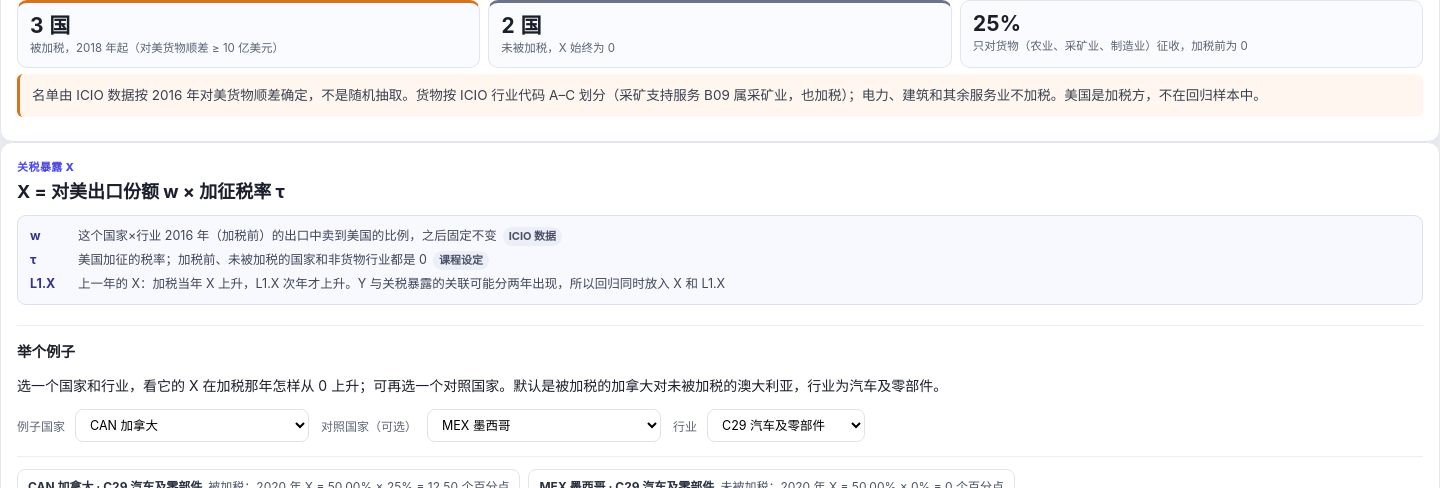
after submission, switching the example asks first, then confirms and keeps focus
Select "C26 计算机电子光学" in the dropdown labelled "行业" at point(786, 426), box left=707, top=409, right=865, bottom=442
(page scrolled)
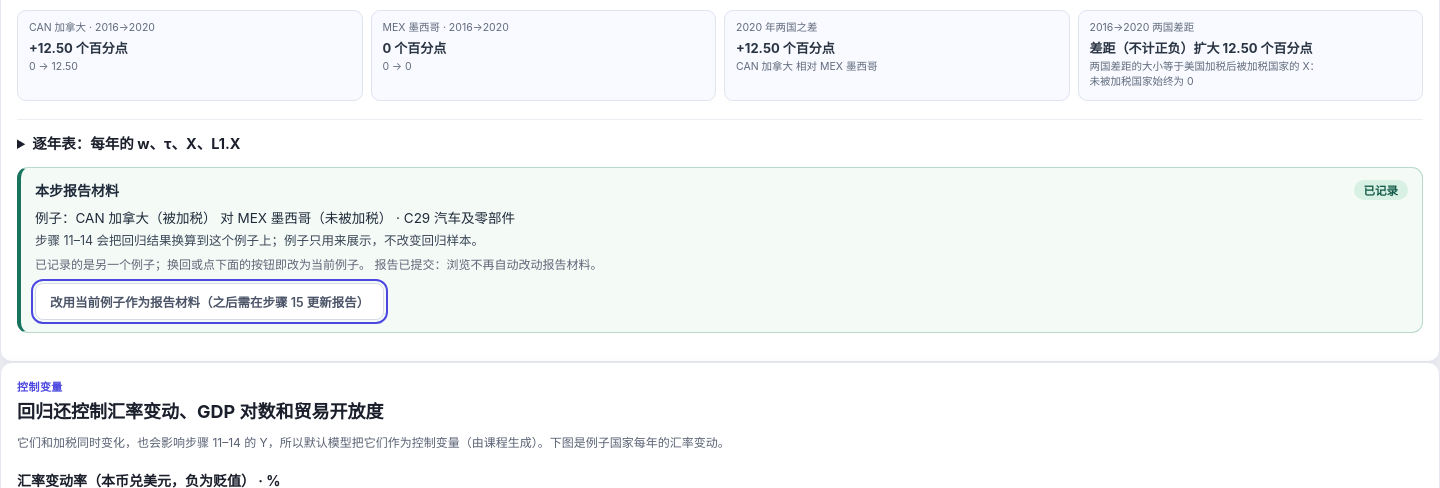
Expected: the message "例子：CAN 加拿大（被加税） 对 MEX 墨西哥（未被加税） · C29 汽车及零部件" is shown, left=35, top=210, right=515, bottom=226
Now the number of buttons is 1
Now the text "已记录的是另一个例子；换回或点下面的按钮即改为当前例子。 报告已提交：浏览不再自动改动报告材料。" is shown, box left=35, top=257, right=602, bottom=272
Click the button "改用当前例子作为报告材料（之后需在步骤 15 更新报告）" at point(210, 301), box left=35, top=283, right=384, bottom=320
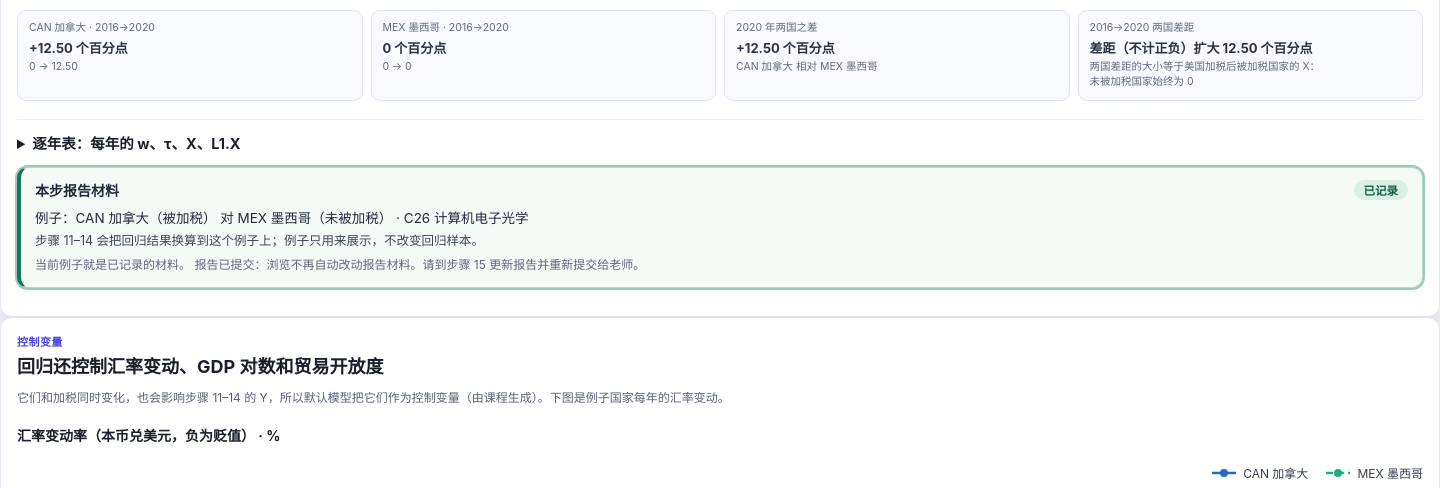
Now the message "例子：CAN 加拿大（被加税） 对 MEX 墨西哥（未被加税） · C26 计算机电子光学" is shown, box left=35, top=210, right=528, bottom=226
Now the text "当前例子就是已记录的材料。 报告已提交：浏览不再自动改动报告材料。请到步骤 15 更新报告并重新提交给老师。" is shown, box left=35, top=257, right=645, bottom=272
Now the button "改用当前例子" is gone
